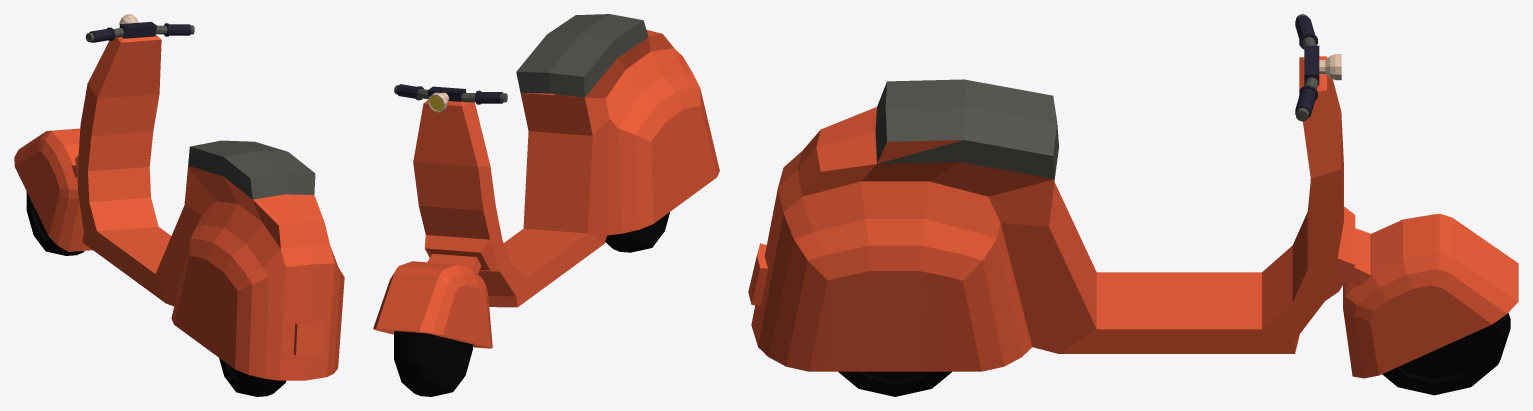
The model's file is motorbike.fbx.
3 renders of one model, left to right at view 1: azimuth 30°, elevation 25°; view 2: azimuth 150°, elevation 25°; view 3: azimuth 270°, elevation 25°, orthographic. The views are drawn at different scales.
Visible parts, largest first — view 1: Motorbike; view 2: Motorbike; view 3: Motorbike.
Boxes of the visible parts, left/top/right/bottom form: Motorbike: left=14, top=14, right=344, bottom=396; Motorbike: left=373, top=14, right=719, bottom=396; Motorbike: left=748, top=14, right=1518, bottom=396.
Size of the model in its own units: 88.73 by 165 by 314.
